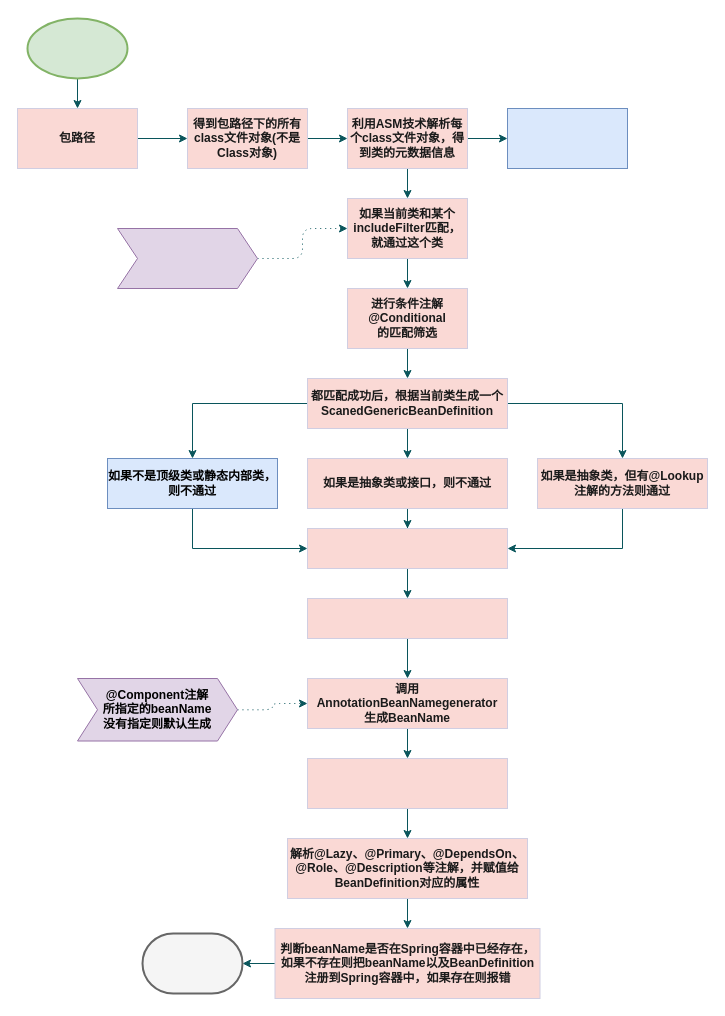
Some shapes in this 725 by 1016 pixel diagram are drawn without their labels. The shapes that lost their labels are listed below. From the top down, each one's centre as x and y in pixels, then its label:
At (x=77, y=48): "启动扫描".
At (x=567, y=138): "如果当前类和某个excludeFilter匹配，就排除这个类".
At (x=187, y=258): "Spring默认有一个@Component的includeFilter".
At (x=407, y=548): "最终扫描到某些BeanDefinition".
At (x=407, y=618): "遍历每个BeanDefinition".
At (x=407, y=783): "给BeanDefinition对象的属性 赋默认值".
At (x=192, y=963): "结束扫描".
